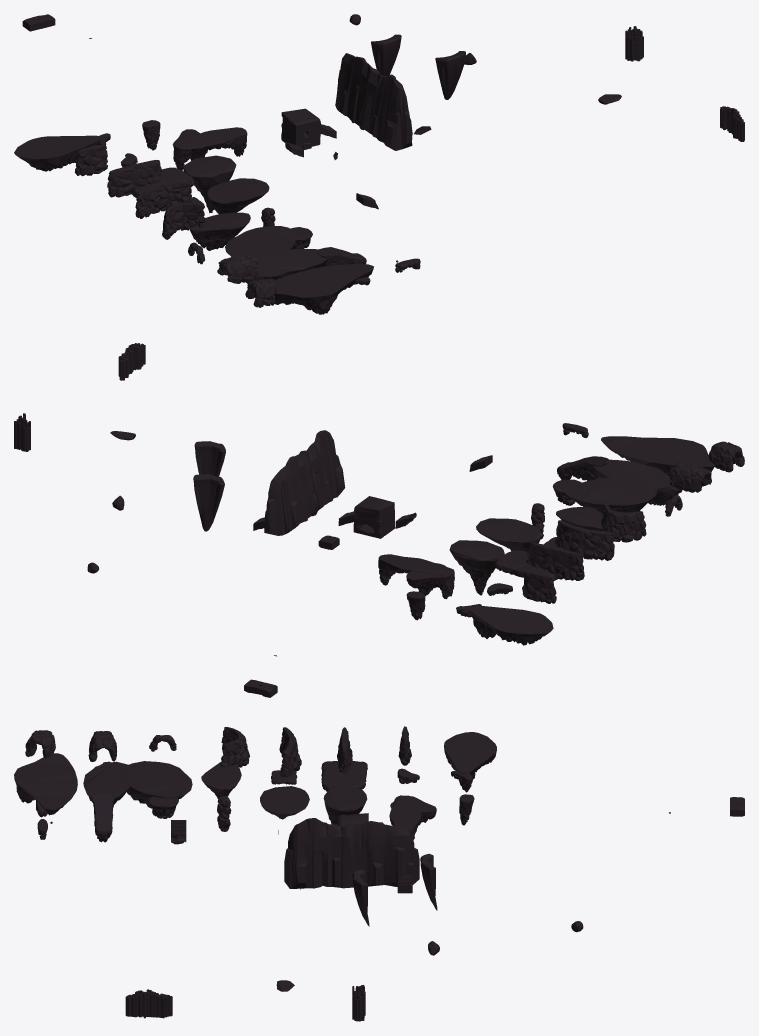
The model's file is AllRocksPack.glb.
The picture shows the model from 3 angles, top to bottom: view 1: azimuth 30°, elevation 25°; view 2: azimuth 150°, elevation 25°; view 3: azimuth 270°, elevation 25°; orthographic projection. The views are drawn at different scales.
Visible parts, largest first — view 1: group_0.018, MasterBrush.006, MasterBrush.014, MasterBrush.008, MasterBrush.021, MasterBrush.023, MasterBrush.003, MasterBrush.007, MasterBrush.009, MasterBrush.022, MasterBrush.004, group_0.015 (+9 smaller); view 2: group_0.018, MasterBrush.006, MasterBrush.008, MasterBrush.014, MasterBrush.022, MasterBrush.007, MasterBrush.003, MasterBrush.004, MasterBrush.021, group_0.015, MasterBrush.023, MasterBrush.015 (+10 smaller); view 3: group_0.018, MasterBrush.006, MasterBrush.008, MasterBrush.014, MasterBrush.007, MasterBrush.021, group_0.023, MasterBrush.022, MasterBrush.010, MasterBrush.015, MasterBrush.009, MasterBrush.023 (+8 smaller).
Boxes of the visible parts, <box> form: group_0.018: <box>335,53,412,150</box>; MasterBrush.006: <box>274,263,373,314</box>; MasterBrush.014: <box>14,135,102,171</box>; MasterBrush.008: <box>225,226,295,259</box>; MasterBrush.021: <box>207,178,269,214</box>; MasterBrush.023: <box>173,127,247,170</box>; MasterBrush.003: <box>135,180,193,218</box>; MasterBrush.007: <box>246,249,328,283</box>; MasterBrush.009: <box>189,212,250,250</box>; MasterBrush.022: <box>183,155,236,213</box>; MasterBrush.004: <box>107,160,162,197</box>; group_0.015: <box>281,108,320,149</box>; group_0.018: <box>264,430,345,535</box>; MasterBrush.006: <box>601,436,715,476</box>; MasterBrush.008: <box>565,478,657,513</box>; MasterBrush.014: <box>468,605,553,645</box>; MasterBrush.022: <box>449,540,504,595</box>; MasterBrush.007: <box>593,459,682,505</box>; MasterBrush.003: <box>555,520,614,560</box>; MasterBrush.004: <box>526,542,584,580</box>; MasterBrush.021: <box>476,518,541,551</box>; group_0.015: <box>353,496,395,538</box>; MasterBrush.023: <box>378,554,454,599</box>; MasterBrush.015: <box>601,502,646,542</box>; group_0.018: <box>284,818,419,888</box>; MasterBrush.006: <box>14,753,77,815</box>; MasterBrush.008: <box>119,761,192,807</box>; MasterBrush.014: <box>444,732,496,792</box>; MasterBrush.007: <box>83,761,134,804</box>; MasterBrush.021: <box>260,786,309,819</box>; group_0.023: <box>125,989,172,1018</box>; MasterBrush.022: <box>323,785,367,825</box>; MasterBrush.010: <box>321,761,367,791</box>; MasterBrush.015: <box>220,727,249,767</box>; MasterBrush.009: <box>201,761,241,798</box>; MasterBrush.023: <box>389,795,421,839</box>.
Size of the model in its own units: 226 by 39.96 by 242.
Materials: 1 (1 with a texture image).
